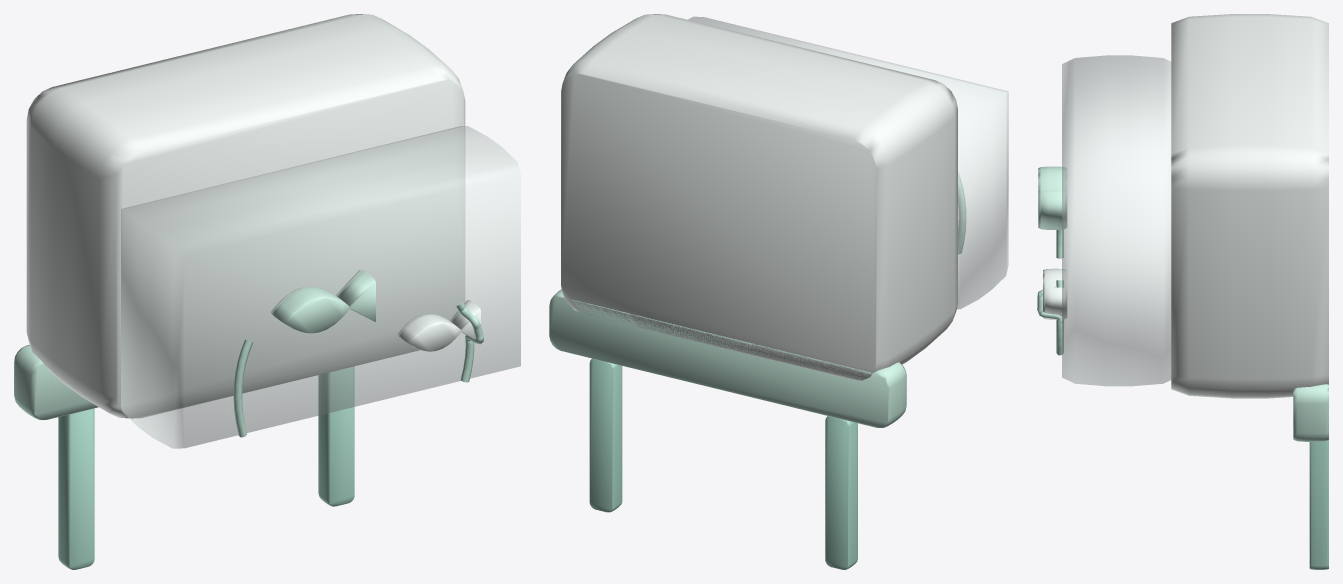
Rendered from decor_3_mint.glb.
3 renders of one model, left to right at view 1: azimuth 30°, elevation 25°; view 2: azimuth 150°, elevation 25°; view 3: azimuth 270°, elevation 25°, orthographic. The views are drawn at different scales.
Parts seen in each view (by area): view 1: decor_3_mint; view 2: decor_3_mint; view 3: decor_3_mint.
Boxes of the visible parts, box(x1,y1,x2,y2) form: decor_3_mint: box(14, 14, 520, 569); decor_3_mint: box(549, 14, 1008, 569); decor_3_mint: box(1037, 14, 1328, 569).
Size of the model in its own units: 11.93 by 14.71 by 9.06.
